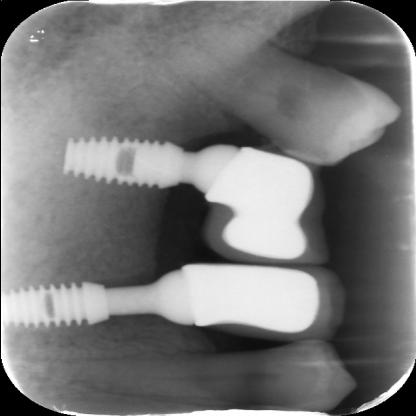Bicon: (61, 134, 185, 188), (0, 281, 115, 331)
